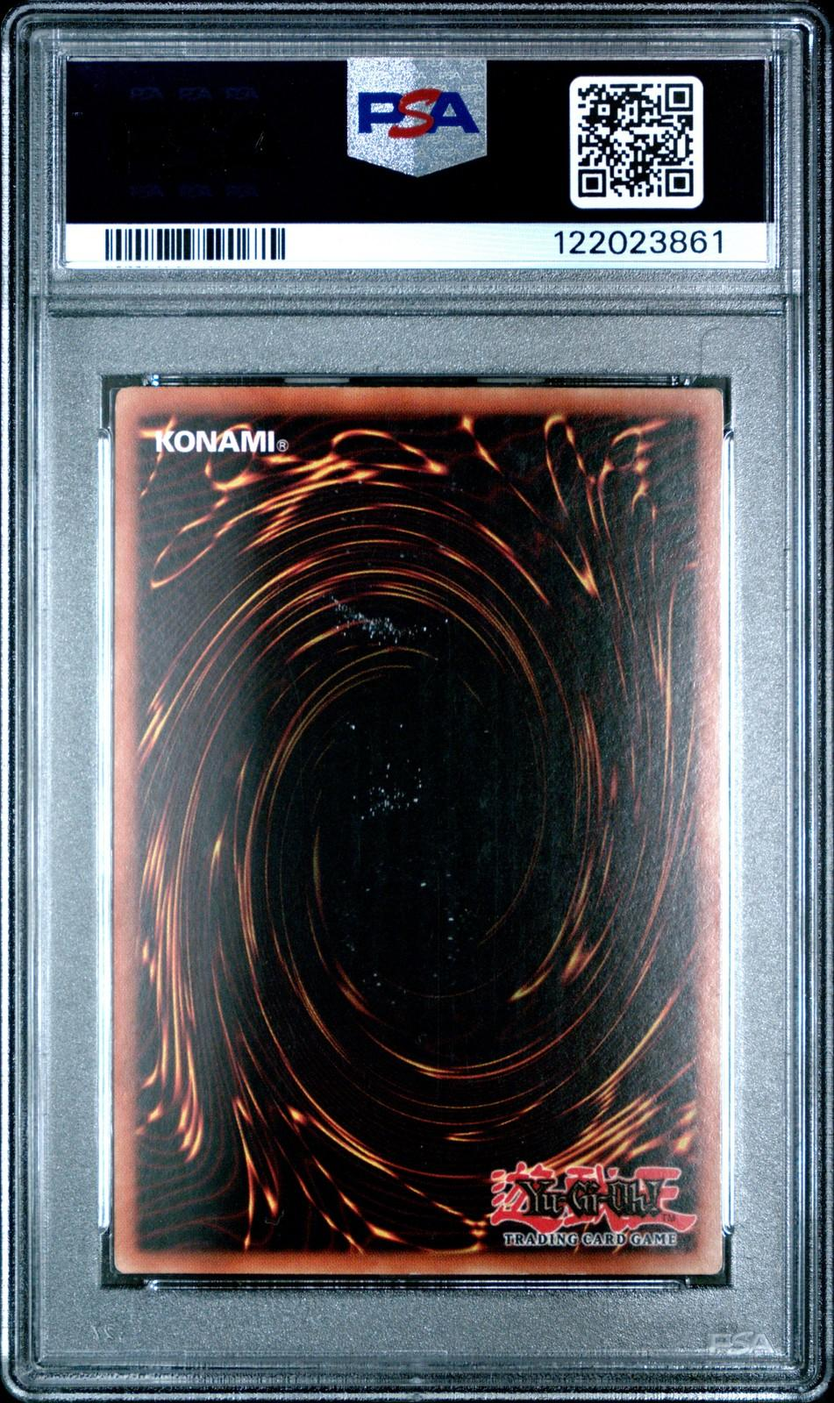card-2UtV: (114, 386, 724, 1275)
